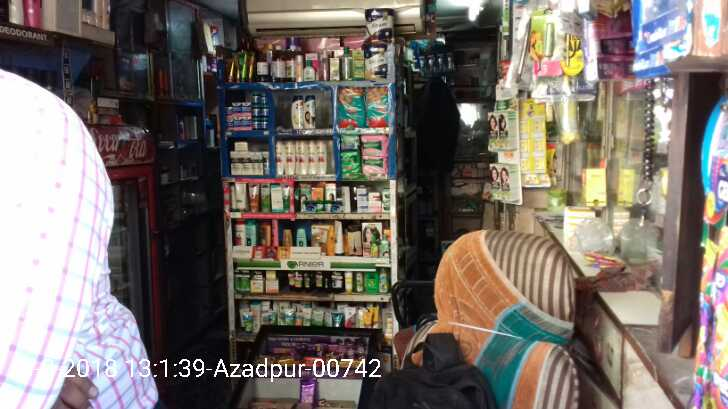vicks: (228, 93, 270, 133)
